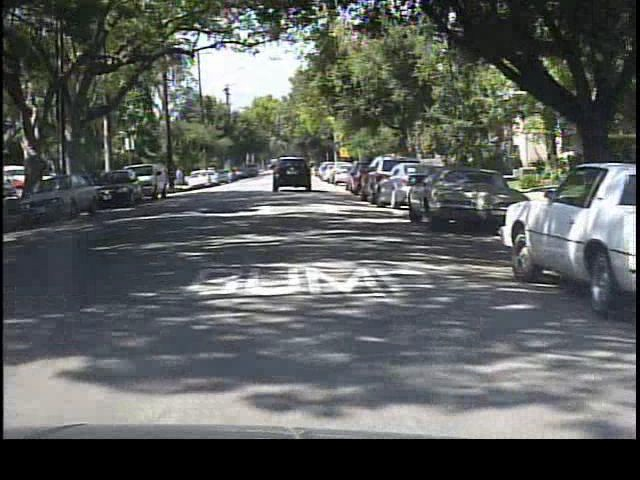person: (175, 164, 189, 193)
